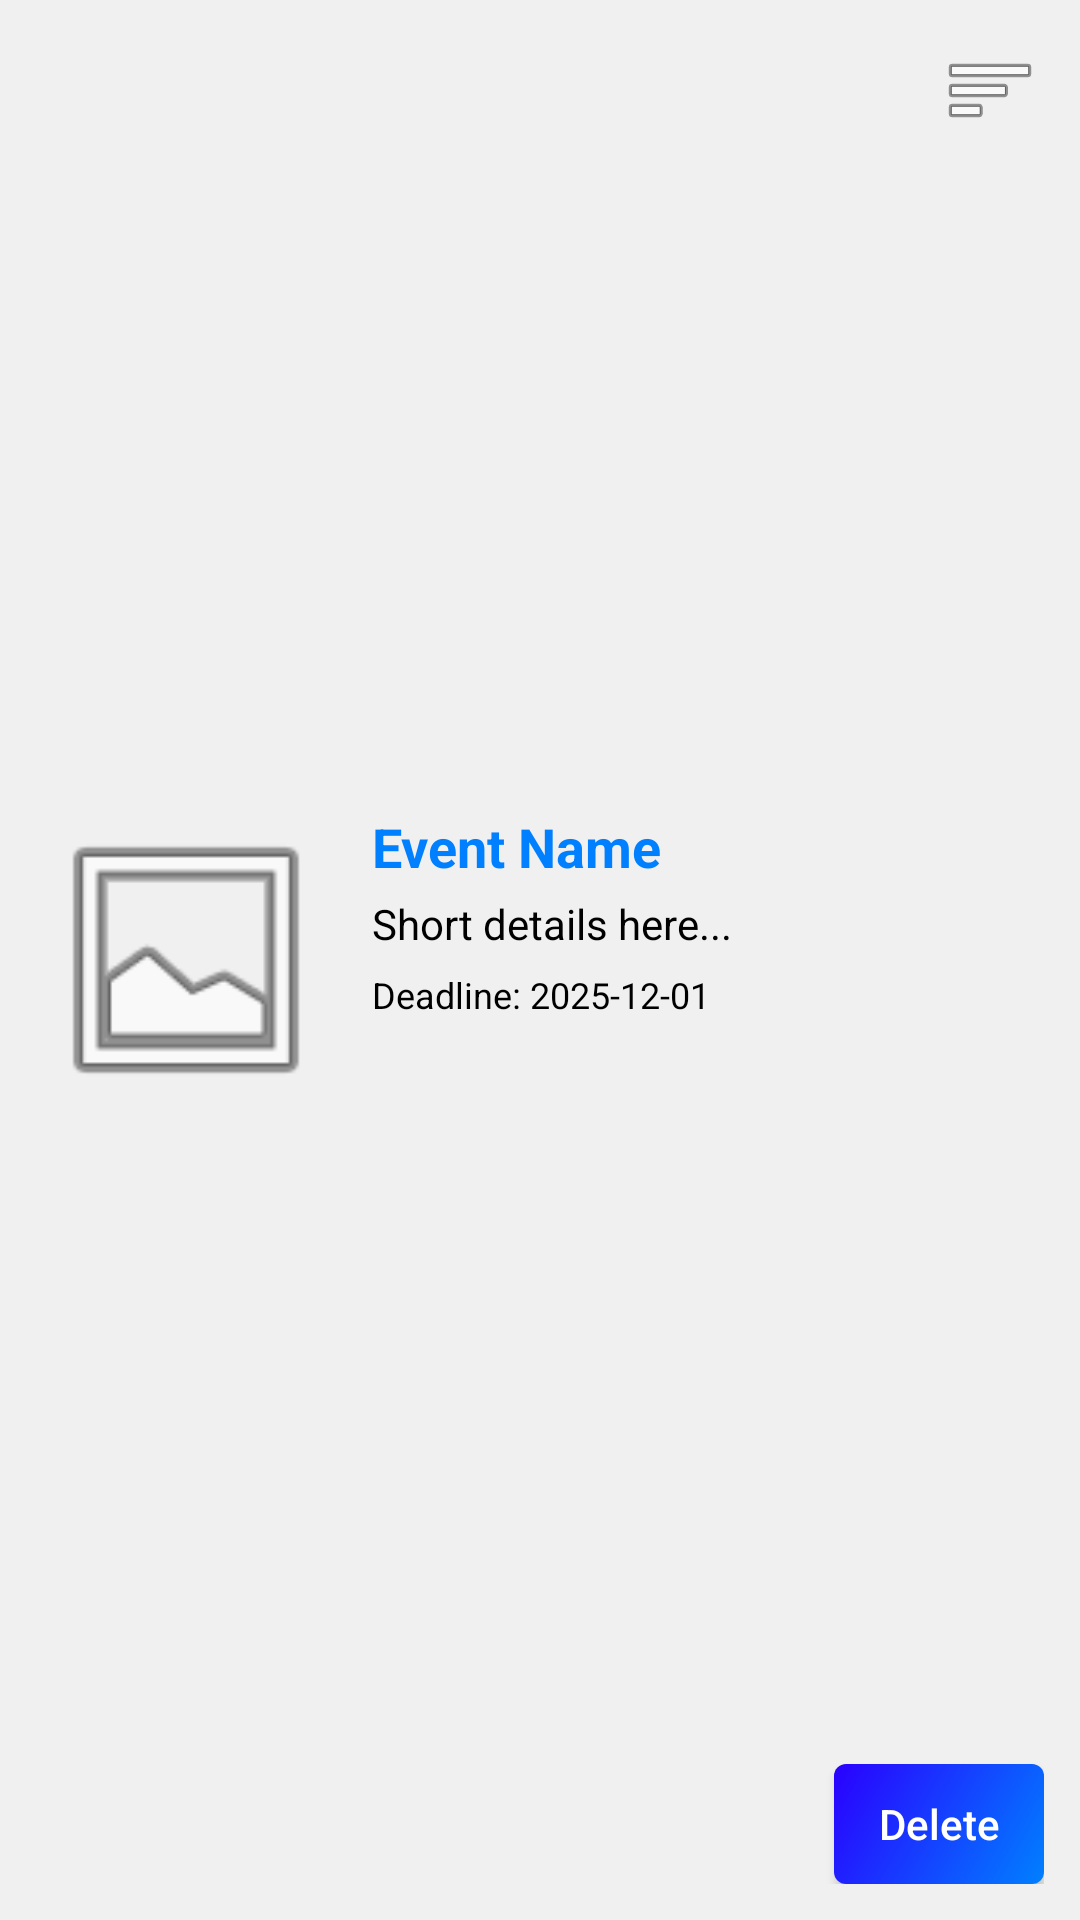

Icon bounding boxes for this 1080*1920 phone screenshot, format (x1, y1, x2, y2):
gallery: (72, 846, 300, 1074)
More/List: (949, 64, 1031, 117)
